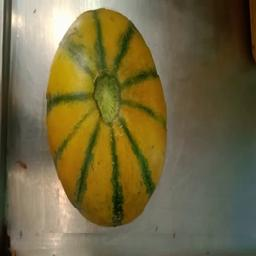Melon Semifresh: (37, 4, 172, 233)
